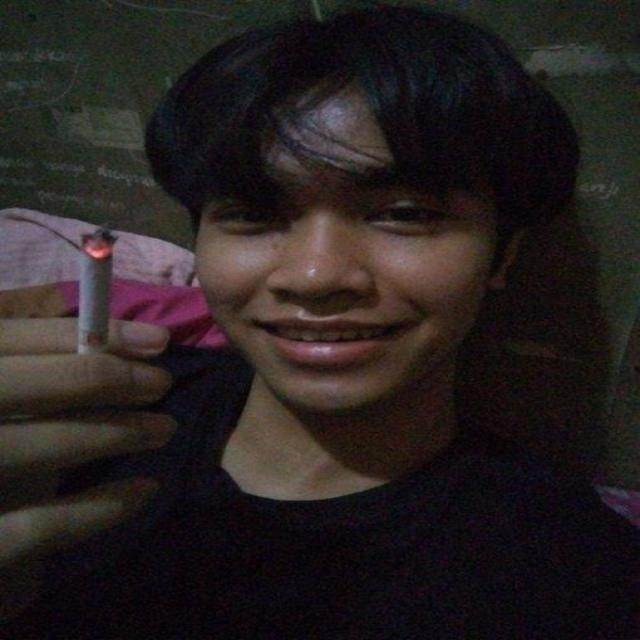rokok: (75, 222, 133, 366)
